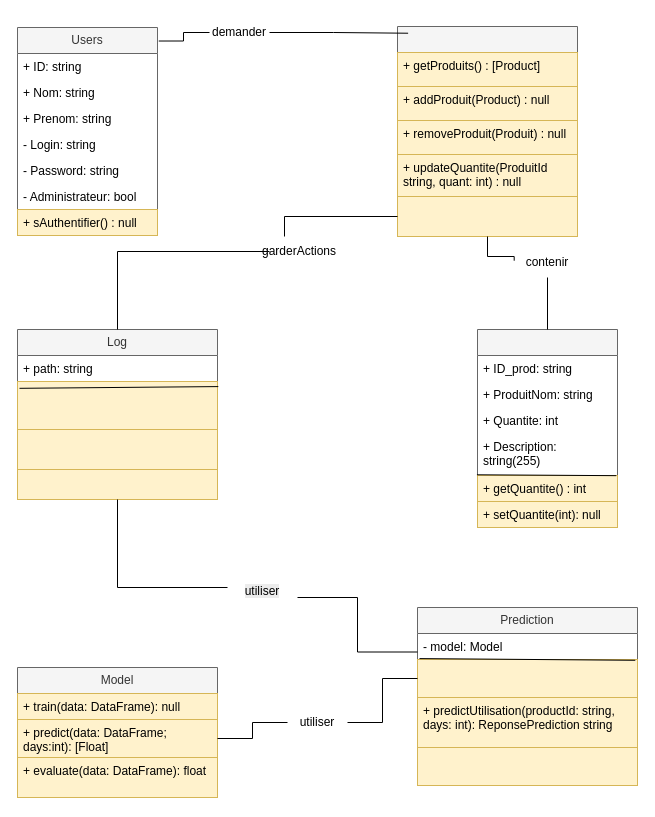
The diagram is 655 pixels wide and 817 high, and some of its shapes have lost their labels. Each missing label, with the box of its shape:
+ exportLog(): CSVfichier: (16, 468, 218, 500)
+ getQuantite(ProduitId: string) : int: (396, 196, 578, 236)
+ lireLog(productId: string): DataFrame: (16, 428, 218, 470)
+ logAct(userId: string, productId: string, action: string; quantite: int): null: (16, 380, 218, 430)
+ predictToutLesProduits(): [Reponse Prediction string]: (416, 746, 638, 786)
+ prepareData(productId : string) : data: (416, 658, 638, 698)
Produits: (476, 328, 618, 528)
Stock: (396, 26, 578, 236)
